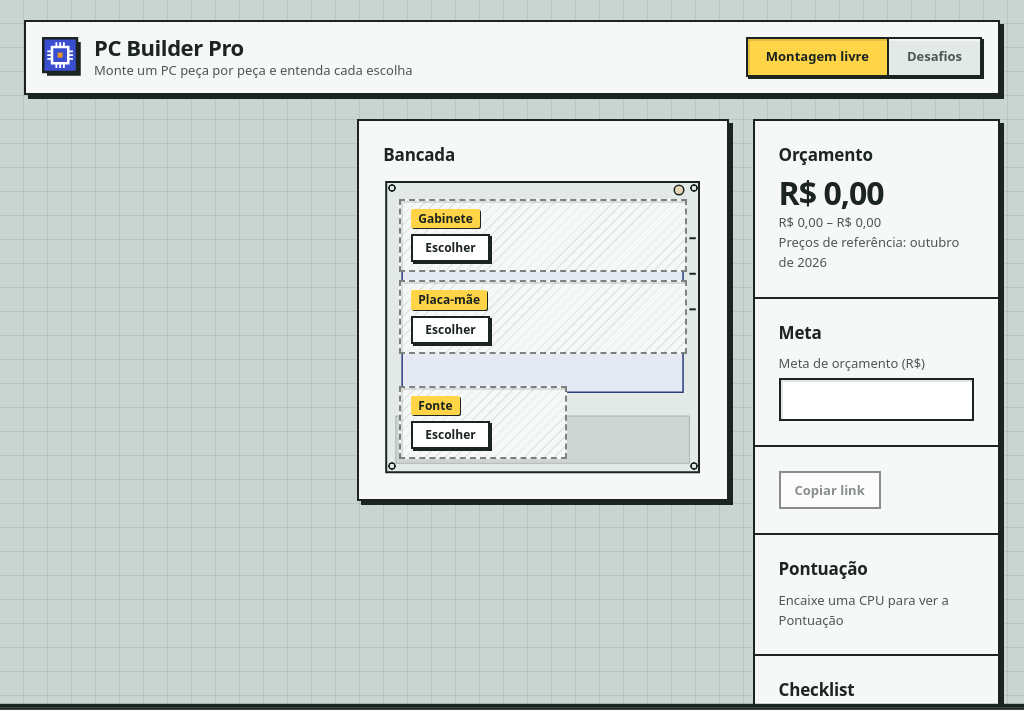
Scenario: App: Escolher pelo Slot › no celular, "Escolher" abre o painel inferior da busca já filtrado
Click the button with aria-label "Escolher Peça para Placa-mãe".
click(450, 330)  # box [411,316,490,344]
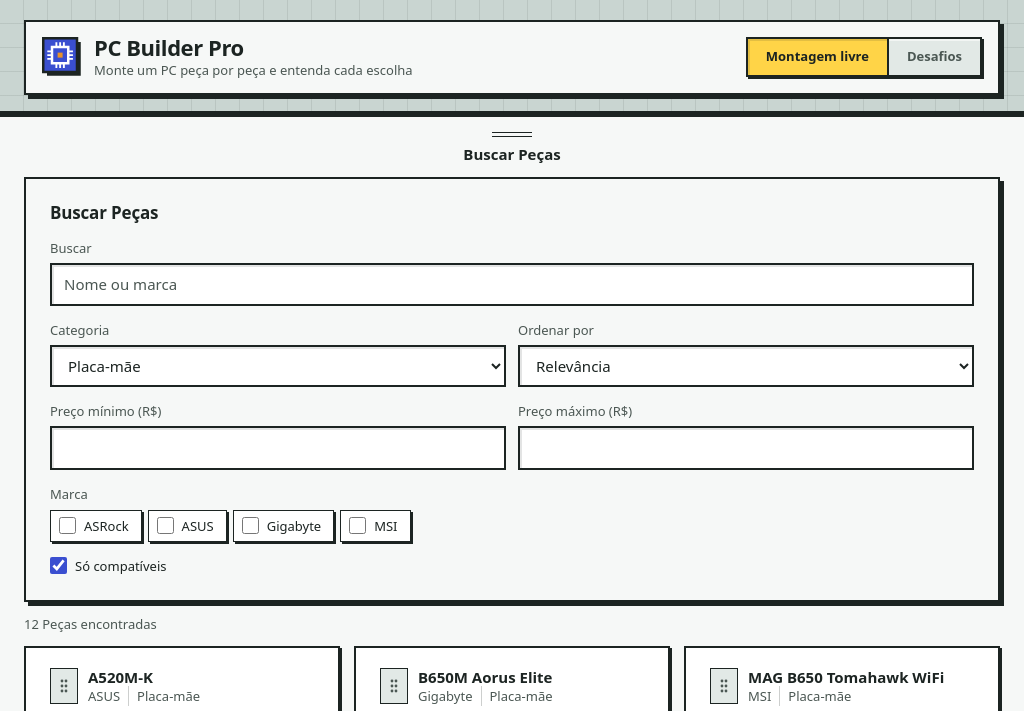
Expected: the button "Buscar Peças" is expanded, [0,117,1023,177]
Expected: the dropdown labelled "Categoria" shows "Placa-mãe", [50,345,506,387]
